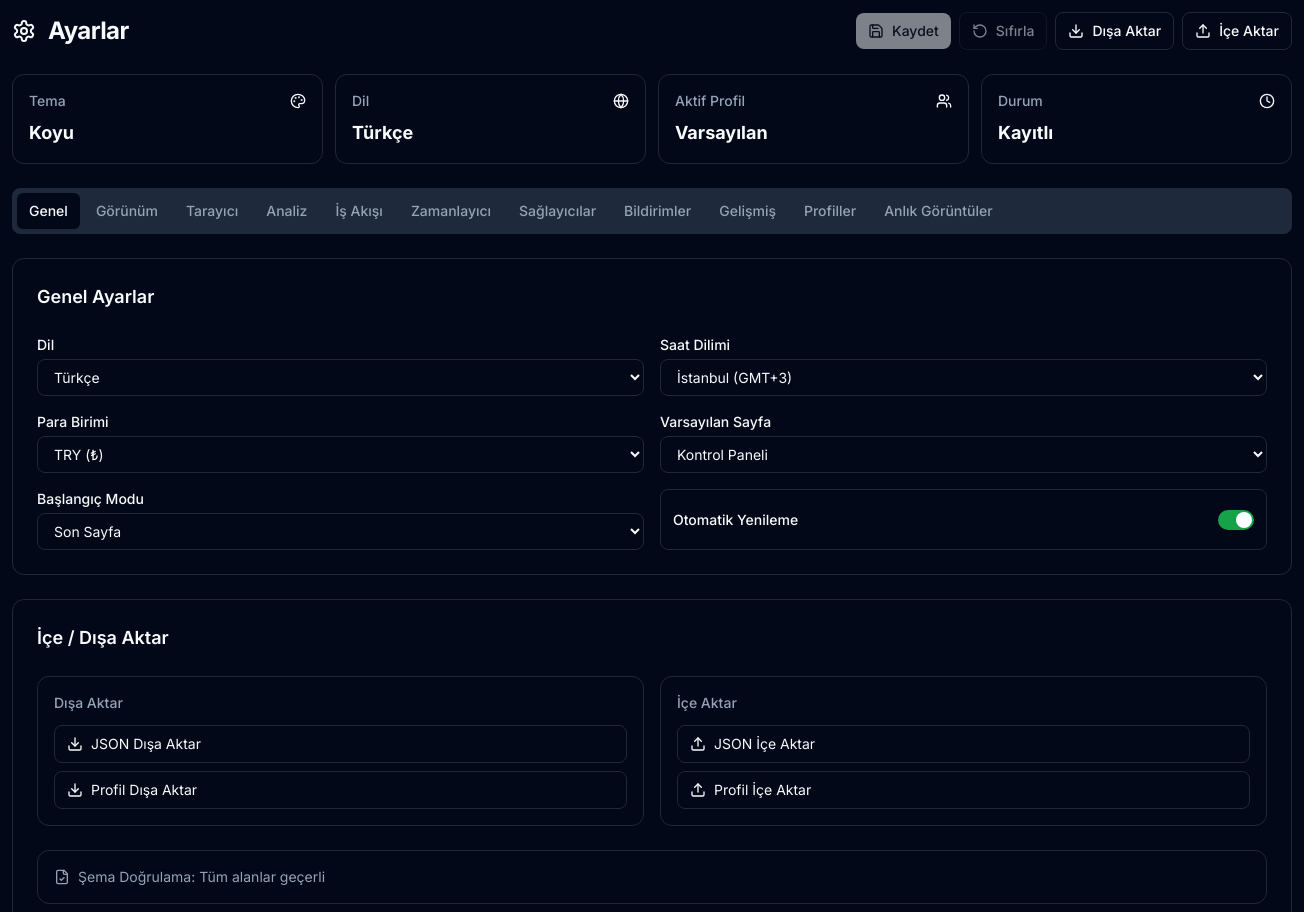
Scenario: SettingsPage › switches to theme tab
The image size is (1304, 912).
Click the button "Görünüm" at (127, 211), box [84, 193, 170, 229]
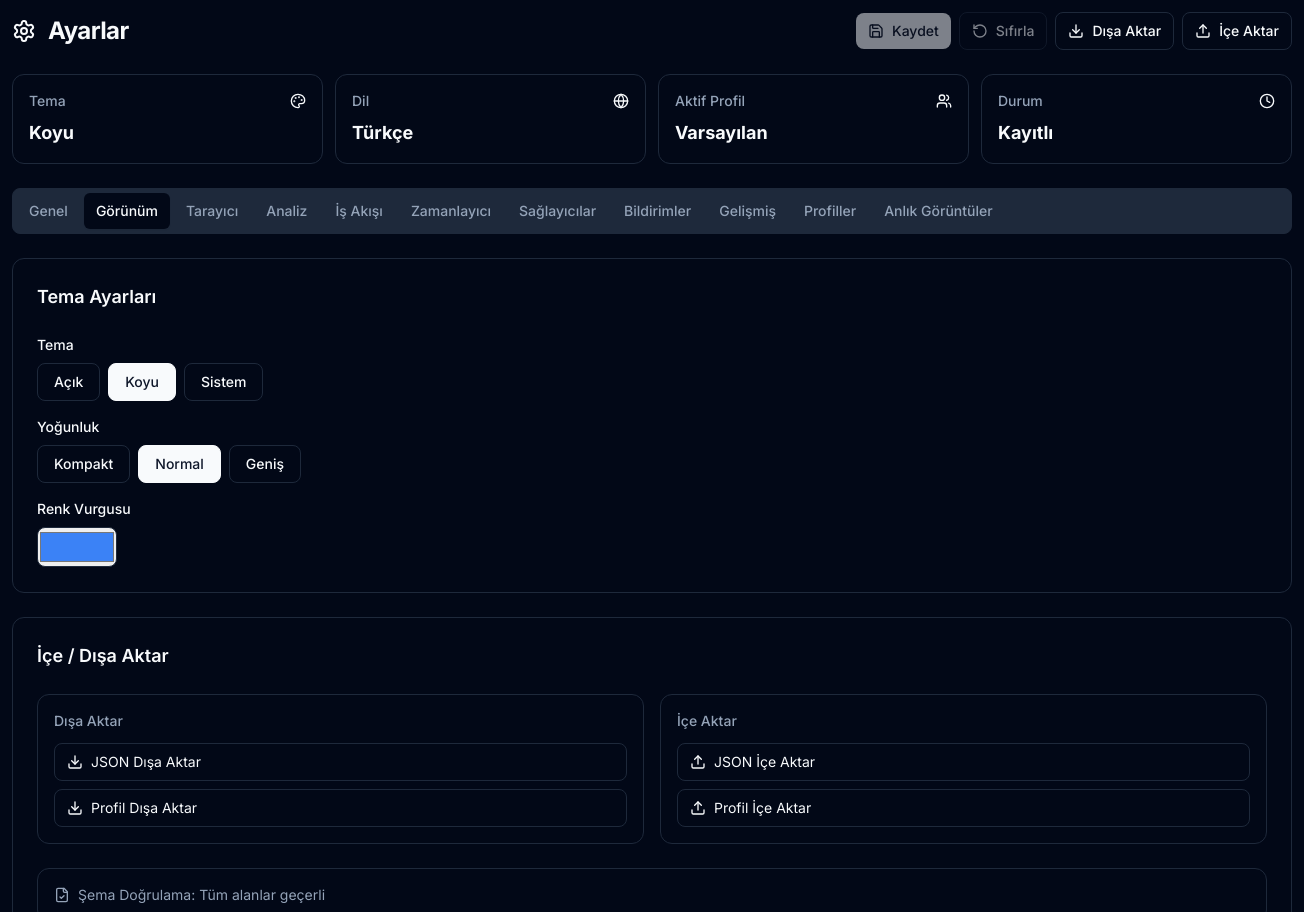
Check: the heading "Tema Ayarları" is shown, box [37, 286, 156, 307]
